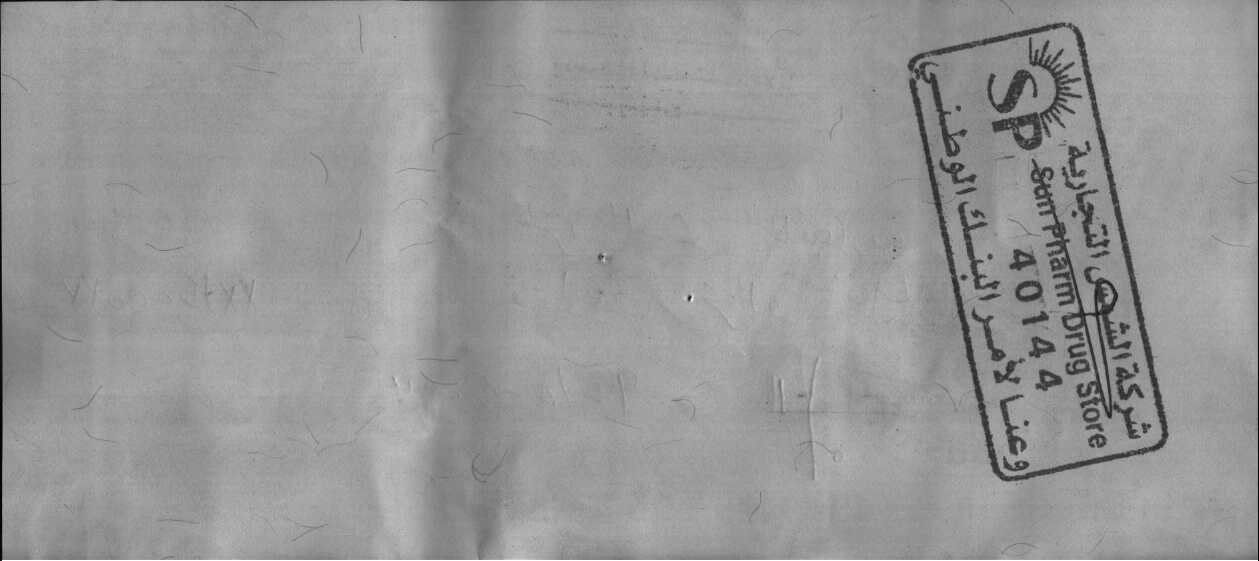stamp: (905, 21, 1174, 485)
